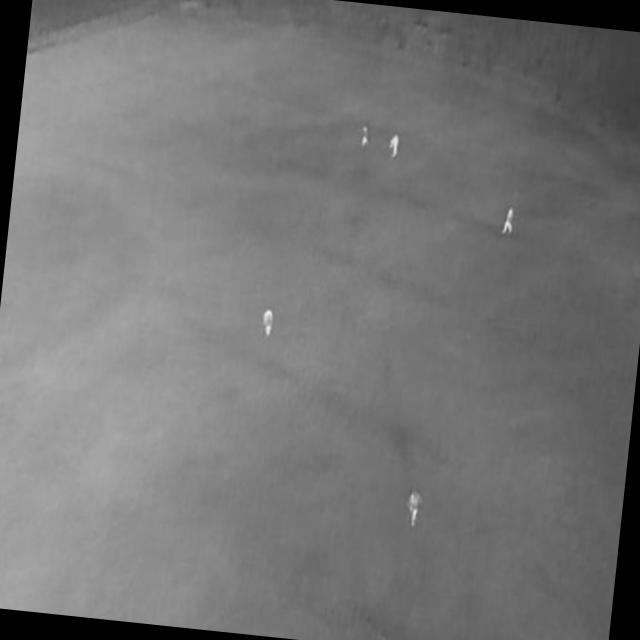person: (404, 489, 425, 529), (500, 206, 516, 238), (261, 306, 276, 338), (360, 124, 370, 148), (391, 135, 400, 159)
